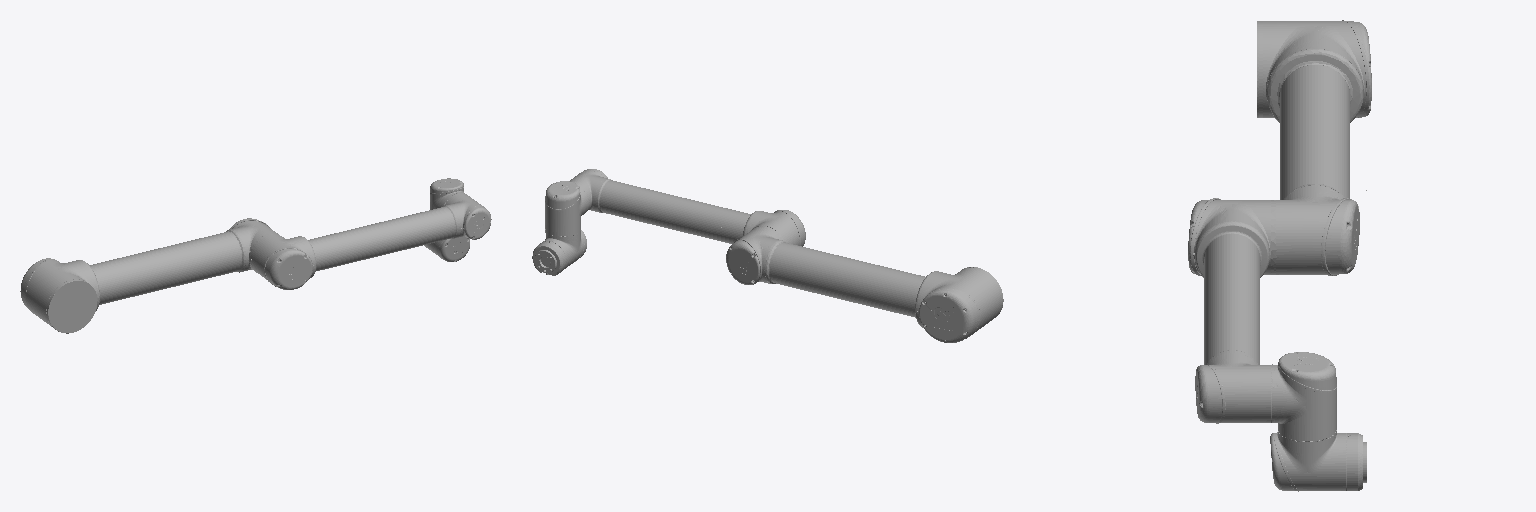
URDF robot description (ur10):
<?xml version="1.0" encoding="utf-8"?>
<!-- =================================================================================== -->
<!-- |    This document was autogenerated by xacro from ur10_joint_limited_robot.urdf.xacro | -->
<!-- |    EDITING THIS FILE BY HAND IS NOT RECOMMENDED                                 | -->
<!-- =================================================================================== -->
<robot name="ur10" xmlns:xacro="http://wiki.ros.org/xacro">
  <gazebo>
    <plugin filename="libgazebo_ros_control.so" name="ros_control">
      <!--robotNamespace>/</robotNamespace-->
      <!--robotSimType>gazebo_ros_control/DefaultRobotHWSim</robotSimType-->
    </plugin>
    <!--
    <plugin name="gazebo_ros_power_monitor_controller" filename="libgazebo_ros_power_monitor.so">
      <alwaysOn>true</alwaysOn>
      <updateRate>1.0</updateRate>
      <timeout>5</timeout>
      <powerStateTopic>power_state</powerStateTopic>
      <powerStateRate>10.0</powerStateRate>
      <fullChargeCapacity>87.78</fullChargeCapacity>
      <dischargeRate>-474</dischargeRate>
      <chargeRate>525</chargeRate>
      <dischargeVoltage>15.52</dischargeVoltage>
      <chargeVoltage>16.41</chargeVoltage>
    </plugin>
-->
  </gazebo>
  <!--
  Author: [author]
  Contributors: [author], [author], [author]
-->
  <!-- measured from model -->
  <link name="base_link">
    <visual>
      <geometry>
        <mesh filename="package://ur_description/meshes/ur10/visual/base.dae"/>
      </geometry>
      <material name="LightGrey">
        <color rgba="0.7 0.7 0.7 1.0"/>
      </material>
    </visual>
    <collision>
      <geometry>
        <mesh filename="package://ur_description/meshes/ur10/collision/base.stl"/>
      </geometry>
    </collision>
    <inertial>
      <mass value="4.0"/>
      <origin rpy="0 0 0" xyz="0.0 0.0 0.0"/>
      <inertia ixx="0.0061063308908" ixy="0.0" ixz="0.0" iyy="0.0061063308908" iyz="0.0" izz="0.01125"/>
    </inertial>
  </link>
  <joint name="shoulder_pan_joint" type="revolute">
    <parent link="base_link"/>
    <child link="shoulder_link"/>
    <origin rpy="0.0 0.0 0.0" xyz="0.0 0.0 0.1273"/>
    <axis xyz="0 0 1"/>
    <limit effort="330.0" lower="-3.14159265359" upper="3.14159265359" velocity="2.16"/>
    <dynamics damping="0.0" friction="0.0"/>
  </joint>
  <link name="shoulder_link">
    <visual>
      <geometry>
        <mesh filename="package://ur_description/meshes/ur10/visual/shoulder.dae"/>
      </geometry>
      <material name="LightGrey">
        <color rgba="0.7 0.7 0.7 1.0"/>
      </material>
    </visual>
    <collision>
      <geometry>
        <mesh filename="package://ur_description/meshes/ur10/collision/shoulder.stl"/>
      </geometry>
    </collision>
    <inertial>
      <mass value="7.778"/>
      <origin rpy="0 0 0" xyz="0.0 0.0 0.0"/>
      <inertia ixx="0.0314743125769" ixy="0.0" ixz="0.0" iyy="0.0314743125769" iyz="0.0" izz="0.021875625"/>
    </inertial>
  </link>
  <joint name="shoulder_lift_joint" type="revolute">
    <parent link="shoulder_link"/>
    <child link="upper_arm_link"/>
    <origin rpy="0.0 1.57079632679 0.0" xyz="0.0 0.220941 0.0"/>
    <axis xyz="0 1 0"/>
    <limit effort="330.0" lower="-3.14159265359" upper="3.14159265359" velocity="2.16"/>
    <dynamics damping="0.0" friction="0.0"/>
  </joint>
  <link name="upper_arm_link">
    <visual>
      <geometry>
        <mesh filename="package://ur_description/meshes/ur10/visual/upperarm.dae"/>
      </geometry>
      <material name="LightGrey">
        <color rgba="0.7 0.7 0.7 1.0"/>
      </material>
    </visual>
    <collision>
      <geometry>
        <mesh filename="package://ur_description/meshes/ur10/collision/upperarm.stl"/>
      </geometry>
    </collision>
    <inertial>
      <mass value="12.93"/>
      <origin rpy="0 0 0" xyz="0.0 0.0 0.306"/>
      <inertia ixx="0.421753803798" ixy="0.0" ixz="0.0" iyy="0.421753803798" iyz="0.0" izz="0.036365625"/>
    </inertial>
  </link>
  <joint name="elbow_joint" type="revolute">
    <parent link="upper_arm_link"/>
    <child link="forearm_link"/>
    <origin rpy="0.0 0.0 0.0" xyz="0.0 -0.1719 0.612"/>
    <axis xyz="0 1 0"/>
    <limit effort="150.0" lower="-3.14159265359" upper="3.14159265359" velocity="3.15"/>
    <dynamics damping="0.0" friction="0.0"/>
  </joint>
  <link name="forearm_link">
    <visual>
      <geometry>
        <mesh filename="package://ur_description/meshes/ur10/visual/forearm.dae"/>
      </geometry>
      <material name="LightGrey">
        <color rgba="0.7 0.7 0.7 1.0"/>
      </material>
    </visual>
    <collision>
      <geometry>
        <mesh filename="package://ur_description/meshes/ur10/collision/forearm.stl"/>
      </geometry>
    </collision>
    <inertial>
      <mass value="3.87"/>
      <origin rpy="0 0 0" xyz="0.0 0.0 0.28615"/>
      <inertia ixx="0.111069694097" ixy="0.0" ixz="0.0" iyy="0.111069694097" iyz="0.0" izz="0.010884375"/>
    </inertial>
  </link>
  <joint name="wrist_1_joint" type="revolute">
    <parent link="forearm_link"/>
    <child link="wrist_1_link"/>
    <origin rpy="0.0 1.57079632679 0.0" xyz="0.0 0.0 0.5723"/>
    <axis xyz="0 1 0"/>
    <limit effort="54.0" lower="-3.14159265359" upper="3.14159265359" velocity="3.2"/>
    <dynamics damping="0.0" friction="0.0"/>
  </joint>
  <link name="wrist_1_link">
    <visual>
      <geometry>
        <mesh filename="package://ur_description/meshes/ur10/visual/wrist1.dae"/>
      </geometry>
      <material name="LightGrey">
        <color rgba="0.7 0.7 0.7 1.0"/>
      </material>
    </visual>
    <collision>
      <geometry>
        <mesh filename="package://ur_description/meshes/ur10/collision/wrist1.stl"/>
      </geometry>
    </collision>
    <inertial>
      <mass value="1.96"/>
      <origin rpy="0 0 0" xyz="0.0 0.0 0.0"/>
      <inertia ixx="0.0051082479567" ixy="0.0" ixz="0.0" iyy="0.0051082479567" iyz="0.0" izz="0.0055125"/>
    </inertial>
  </link>
  <joint name="wrist_2_joint" type="revolute">
    <parent link="wrist_1_link"/>
    <child link="wrist_2_link"/>
    <origin rpy="0.0 0.0 0.0" xyz="0.0 0.1149 0.0"/>
    <axis xyz="0 0 1"/>
    <limit effort="54.0" lower="-3.14159265359" upper="3.14159265359" velocity="3.2"/>
    <dynamics damping="0.0" friction="0.0"/>
  </joint>
  <link name="wrist_2_link">
    <visual>
      <geometry>
        <mesh filename="package://ur_description/meshes/ur10/visual/wrist2.dae"/>
      </geometry>
      <material name="LightGrey">
        <color rgba="0.7 0.7 0.7 1.0"/>
      </material>
    </visual>
    <collision>
      <geometry>
        <mesh filename="package://ur_description/meshes/ur10/collision/wrist2.stl"/>
      </geometry>
    </collision>
    <inertial>
      <mass value="1.96"/>
      <origin rpy="0 0 0" xyz="0.0 0.0 0.0"/>
      <inertia ixx="0.0051082479567" ixy="0.0" ixz="0.0" iyy="0.0051082479567" iyz="0.0" izz="0.0055125"/>
    </inertial>
  </link>
  <joint name="wrist_3_joint" type="revolute">
    <parent link="wrist_2_link"/>
    <child link="wrist_3_link"/>
    <origin rpy="0.0 0.0 0.0" xyz="0.0 0.0 0.1157"/>
    <axis xyz="0 1 0"/>
    <limit effort="54.0" lower="-3.14159265359" upper="3.14159265359" velocity="3.2"/>
    <dynamics damping="0.0" friction="0.0"/>
  </joint>
  <link name="wrist_3_link">
    <visual>
      <geometry>
        <mesh filename="package://ur_description/meshes/ur10/visual/wrist3.dae"/>
      </geometry>
      <material name="LightGrey">
        <color rgba="0.7 0.7 0.7 1.0"/>
      </material>
    </visual>
    <collision>
      <geometry>
        <mesh filename="package://ur_description/meshes/ur10/collision/wrist3.stl"/>
      </geometry>
    </collision>
    <inertial>
      <mass value="0.202"/>
      <origin rpy="0 0 0" xyz="0.0 0.0 0.0"/>
      <inertia ixx="0.000526462289415" ixy="0.0" ixz="0.0" iyy="0.000526462289415" iyz="0.0" izz="0.000568125"/>
    </inertial>
  </link>
  <joint name="ee_fixed_joint" type="fixed">
    <parent link="wrist_3_link"/>
    <child link="ee_link"/>
    <origin rpy="0.0 0.0 1.57079632679" xyz="0.0 0.0922 0.0"/>
  </joint>
  <link name="ee_link">
    <inertial>
      <mass value="0.0"/>
      <origin rpy="0 0 0" xyz="0 0 0"/>
      <inertia ixx="0" ixy="0" ixz="0" iyy="0" iyz="0" izz="0"/>
    </inertial>
    <collision>
      <geometry>
        <box size="0.01 0.01 0.01"/>
      </geometry>
      <origin rpy="0 0 0" xyz="-0.01 0 0"/>
    </collision>
  </link>
  <transmission name="shoulder_pan_trans">
    <type>transmission_interface/SimpleTransmission</type>
    <joint name="shoulder_pan_joint">
      <hardwareInterface>hardware_interface/PositionJointInterface</hardwareInterface>
    </joint>
    <actuator name="shoulder_pan_motor">
      <mechanicalReduction>1</mechanicalReduction>
    </actuator>
  </transmission>
  <transmission name="shoulder_lift_trans">
    <type>transmission_interface/SimpleTransmission</type>
    <joint name="shoulder_lift_joint">
      <hardwareInterface>hardware_interface/PositionJointInterface</hardwareInterface>
    </joint>
    <actuator name="shoulder_lift_motor">
      <mechanicalReduction>1</mechanicalReduction>
    </actuator>
  </transmission>
  <transmission name="elbow_trans">
    <type>transmission_interface/SimpleTransmission</type>
    <joint name="elbow_joint">
      <hardwareInterface>hardware_interface/PositionJointInterface</hardwareInterface>
    </joint>
    <actuator name="elbow_motor">
      <mechanicalReduction>1</mechanicalReduction>
    </actuator>
  </transmission>
  <transmission name="wrist_1_trans">
    <type>transmission_interface/SimpleTransmission</type>
    <joint name="wrist_1_joint">
      <hardwareInterface>hardware_interface/PositionJointInterface</hardwareInterface>
    </joint>
    <actuator name="wrist_1_motor">
      <mechanicalReduction>1</mechanicalReduction>
    </actuator>
  </transmission>
  <transmission name="wrist_2_trans">
    <type>transmission_interface/SimpleTransmission</type>
    <joint name="wrist_2_joint">
      <hardwareInterface>hardware_interface/PositionJointInterface</hardwareInterface>
    </joint>
    <actuator name="wrist_2_motor">
      <mechanicalReduction>1</mechanicalReduction>
    </actuator>
  </transmission>
  <transmission name="wrist_3_trans">
    <type>transmission_interface/SimpleTransmission</type>
    <joint name="wrist_3_joint">
      <hardwareInterface>hardware_interface/PositionJointInterface</hardwareInterface>
    </joint>
    <actuator name="wrist_3_motor">
      <mechanicalReduction>1</mechanicalReduction>
    </actuator>
  </transmission>
  <gazebo reference="shoulder_link">
    <selfCollide>true</selfCollide>
  </gazebo>
  <gazebo reference="upper_arm_link">
    <selfCollide>true</selfCollide>
  </gazebo>
  <gazebo reference="forearm_link">
    <selfCollide>true</selfCollide>
  </gazebo>
  <gazebo reference="wrist_1_link">
    <selfCollide>true</selfCollide>
  </gazebo>
  <gazebo reference="wrist_3_link">
    <selfCollide>true</selfCollide>
  </gazebo>
  <gazebo reference="wrist_2_link">
    <selfCollide>true</selfCollide>
  </gazebo>
  <gazebo reference="ee_link">
    <selfCollide>true</selfCollide>
  </gazebo>
  <!-- ROS base_link to UR 'Base' Coordinates transform -->
  <link name="base">
    <inertial>
      <mass value="0.0"/>
      <origin rpy="0 0 0" xyz="0 0 0"/>
      <inertia ixx="0" ixy="0" ixz="0" iyy="0" iyz="0" izz="0"/>
    </inertial>
  </link>
  <joint name="base_link-base_fixed_joint" type="fixed">
    <!-- NOTE: this rotation is only needed as long as base_link itself is
                 not corrected wrt the real robot (ie: rotated over 180
                 degrees)
      -->
    <origin rpy="0 0 -3.14159265359" xyz="0 0 0"/>
    <parent link="base_link"/>
    <child link="base"/>
  </joint>
  <!-- Frame coincident with all-zeros TCP on UR controller -->
  <link name="tool0">
    <inertial>
      <mass value="0.0"/>
      <origin rpy="0 0 0" xyz="0 0 0"/>
      <inertia ixx="0" ixy="0" ixz="0" iyy="0" iyz="0" izz="0"/>
    </inertial>
  </link>
  <joint name="wrist_3_link-tool0_fixed_joint" type="fixed">
    <origin rpy="-1.57079632679 0 0" xyz="0 0.0922 0"/>
    <parent link="wrist_3_link"/>
    <child link="tool0"/>
  </joint>
  <link name="world"/>
  <joint name="world_joint" type="fixed">
    <parent link="world"/>
    <child link="base_link"/>
    <origin rpy="0.0 0.0 0.0" xyz="0.0 0.0 0.0"/>
  </joint>
</robot>

--- Render facts (derived) ---
Views: 3 orthographic renders of the robot side by side, from view 1: azimuth 30°, elevation 25°; view 2: azimuth 150°, elevation 25°; view 3: azimuth 270°, elevation 25°.
Model ur10 with 11 links and 10 joints (6 revolute, 4 fixed), rooted at world, posed all joints at 0.
Links seen in each view (by area): view 1: upper_arm_link, forearm_link, wrist_2_link, wrist_1_link; view 2: upper_arm_link, forearm_link, wrist_1_link, wrist_3_link, wrist_2_link; view 3: upper_arm_link, forearm_link, wrist_1_link, wrist_2_link, wrist_3_link.
Boxes of the visible links, bbox=[...] form: upper_arm_link: bbox=[20, 218, 278, 333]; forearm_link: bbox=[249, 193, 491, 289]; wrist_2_link: bbox=[424, 236, 469, 261]; wrist_1_link: bbox=[430, 178, 463, 209]; upper_arm_link: bbox=[721, 227, 1003, 342]; forearm_link: bbox=[570, 169, 805, 246]; wrist_1_link: bbox=[545, 181, 588, 236]; wrist_3_link: bbox=[532, 241, 565, 275]; wrist_2_link: bbox=[540, 230, 586, 268]; upper_arm_link: bbox=[1257, 20, 1371, 275]; forearm_link: bbox=[1188, 198, 1276, 423]; wrist_1_link: bbox=[1272, 352, 1336, 441]; wrist_2_link: bbox=[1270, 431, 1346, 491]; wrist_3_link: bbox=[1347, 433, 1366, 490].
Bounding box of the posed robot: 1.31 × 0.283 × 0.2635 m (x, y, z).
5 mesh visuals loaded from 7 distinct referenced files (5 Collada DAE); not drawn: 2 (reference not matched to a file when rendering).